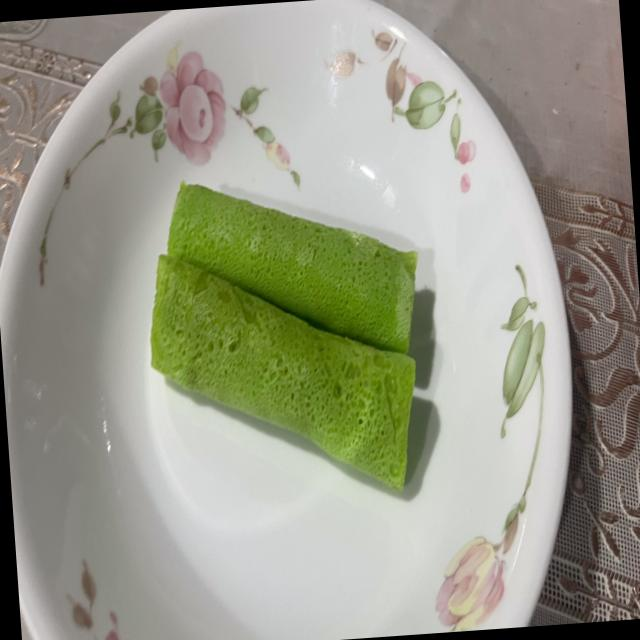Kuih-Ketayap: (150, 255, 415, 489), (167, 182, 417, 354)
